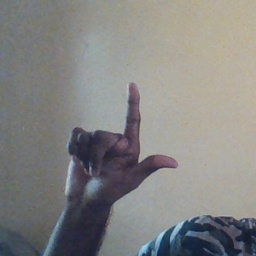L: (65, 81, 180, 205)
